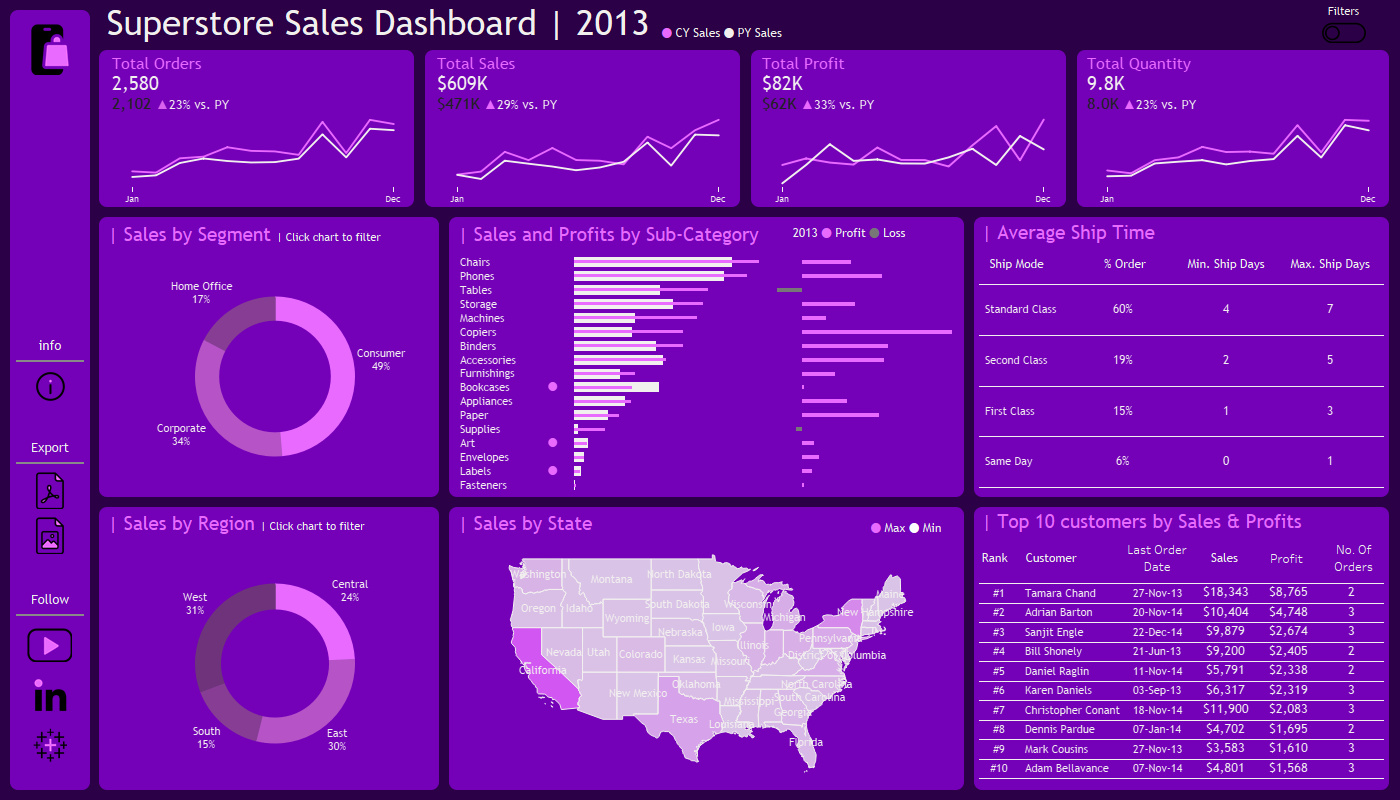

The dashboard page shown, as its layout file describes it:
{"tool":"tableau","page":{"name":"Sales Dashboard","canvas":[1400,800],"ordinal":0},"visuals":[{"type":"image","param":"D:/SHIVAM/Learn With Shivam/Tableau Dashboard Tutorial- Beginner to Intermediate","box":[0,0,1400,800]},{"type":"blank","box":[90,0,1310,267]},{"type":"text","box":[100,0,1300,46]},{"type":"text","box":[1316,1,55,21]},{"type":"filter","title":"Total Orders KPI","param":"[federated.1rs4rue05h7jap19rui71063v4hk].[none:category:nk]","box":[917,4,100,45]},{"type":"filter","title":"Total Orders KPI","param":"[federated.1rs4rue05h7jap19rui71063v4hk].[none:sub_category:nk]","box":[1017,4,100,45]},{"type":"filter","title":"Total Orders KPI","param":"[federated.1rs4rue05h7jap19rui71063v4hk].[none:state:nk]","box":[1117,4,99,45]},{"type":"parameter","param":"[Parameters].[Parameter 1]","box":[1216,4,99,45]},{"type":"blank","box":[10,10,80,10]},{"type":"image","param":"D:/SHIVAM/Learn With Shivam/Tableau Dashboard Tutorial- Beginner to Intermediate","box":[10,20,80,59]},{"type":"dashboard-object","box":[1321,21,45,23]},{"type":"text","box":[659,22,126,24]},{"type":"worksheet","title":"Total Orders KPI","mark":"Automatic","box":[108,54,309,61]},{"type":"worksheet","title":"Total Sales KPI","mark":"Automatic","box":[433,54,309,61]},{"type":"worksheet","title":"Total Profit KPI","mark":"Automatic","box":[758,54,309,61]},{"type":"worksheet","title":"Total Quantity KPI","mark":"Automatic","box":[1083,54,309,61]},{"type":"blank","box":[10,79,80,257]},{"type":"worksheet","title":"MOM Orders","mark":"Line","rows":["Calculation_852869205284057090","CY Orders (copy)_852869205284253699"],"cols":["order_date"],"box":[108,115,309,90]},{"type":"worksheet","title":"MOM Sales","mark":"Line","rows":["Calculation_852869205287362570","CY Sales (copy)_852869205287477259"],"cols":["order_date"],"box":[433,115,309,90]},{"type":"worksheet","title":"MOM Profit","mark":"Line","rows":["Calculation_852869205286715398","CY Profit (copy)_852869205286846471"],"cols":["order_date"],"box":[758,115,309,90]},{"type":"worksheet","title":"MOM Quantity","mark":"Line","rows":["Calculation_852869205292703760","CY Quantity (copy)_852869205292847121"],"cols":["order_date"],"box":[1083,115,309,90]},{"type":"worksheet","title":"Sales/Profits by Segment","mark":"Pie","rows":["Calculation_852869205306703895","Calculation_852869205306728473"],"box":[100,213,350,289]},{"type":"worksheet","title":"Sales/Profits by Sub-Category","mark":"Bar","rows":["sub_category","Calculation_852869205319745563"],"cols":["CY Sales (copy)_852869205287477259","Calculation_852869205287362570","Calculation_852869205286715398"],"box":[450,213,515,289]},{"type":"text","box":[975,217,413,31]},{"type":"text","box":[790,223,122,22]},{"type":"text","box":[979,248,90,32]},{"type":"text","box":[1069,248,112,32]},{"type":"text","box":[1181,248,103.5,32]},{"type":"text","box":[1284.5,248,103.5,32]},{"type":"text","box":[90,267,1310,267]},{"type":"worksheet","title":"Avg Ship Time","mark":"Automatic","rows":["ship_mode"],"box":[975,280,413,218]},{"type":"text","box":[10,336,80,20]},{"type":"blank","box":[10,356,80,10]},{"type":"dashboard-object","box":[10,366,80,40]},{"type":"blank","box":[10,406,80,32]},{"type":"text","box":[10,438,80,20]},{"type":"blank","box":[10,458,80,10]},{"type":"dashboard-object","box":[10,468,80,45]},{"type":"worksheet","title":"Sales/Profits by Region","mark":"Pie","rows":["Calculation_852869205306703895","Calculation_852869205306728473"],"box":[100,502,350,285]},{"type":"worksheet","title":"Sales/Profits by State","mark":"Multipolygon","box":[450,502,515,285]},{"type":"text","box":[975,506,413,31]},{"type":"dashboard-object","box":[10,513,80,45]},{"type":"text","box":[868,518,77,22]},{"type":"blank","box":[90,534,1310,266]},{"type":"text","box":[975,537,44,42]},{"type":"text","box":[1019,537,100,42]},{"type":"text","box":[1119,537,76,42]},{"type":"text","box":[1195,537,59,42]},{"type":"text","box":[1254,537,65,42]},{"type":"text","box":[1318.9,537,69,42]},{"type":"blank","box":[10,558,80,32]},{"type":"worksheet","title":"Top 10 Customers","mark":"Automatic","rows":["Calculation_378302394701783041","customer_name","order_date"],"box":[975,579,413,204]},{"type":"text","box":[10,590,80,20]},{"type":"blank","box":[10,610,80,10]},{"type":"image","param":"D:/SHIVAM/Learn With Shivam/Tableau Dashboard Tutorial- Beginner to Intermediate","box":[10,620,80,50]},{"type":"image","param":"D:/SHIVAM/Learn With Shivam/Tableau Dashboard Tutorial- Beginner to Intermediate","box":[10,670,80,50]},{"type":"image","param":"D:/SHIVAM/Learn With Shivam/Tableau Dashboard Tutorial- Beginner to Intermediate","box":[10,720,80,50]},{"type":"blank","box":[10,770,80,20]}]}

Visuals, with their boxes in screenshot pixels (x1, y1, x2, y2), scaled from the page's 1400x800 canvas onto the 1400x800 screenshot:
image: (0,0,1399,799)
blank: (90,0,1399,267)
text: (100,0,1399,46)
text: (1316,1,1371,22)
"Total Orders KPI" filter: (917,4,1017,49)
"Total Orders KPI" filter: (1017,4,1117,49)
"Total Orders KPI" filter: (1117,4,1216,49)
parameter: (1216,4,1315,49)
blank: (10,10,90,20)
image: (10,20,90,79)
dashboard-object: (1321,21,1366,44)
text: (659,22,785,46)
"Total Orders KPI" worksheet: (108,54,417,115)
"Total Sales KPI" worksheet: (433,54,742,115)
"Total Profit KPI" worksheet: (758,54,1067,115)
"Total Quantity KPI" worksheet: (1083,54,1392,115)
blank: (10,79,90,336)
"MOM Orders" worksheet (Line marks): (108,115,417,205)
"MOM Sales" worksheet (Line marks): (433,115,742,205)
"MOM Profit" worksheet (Line marks): (758,115,1067,205)
"MOM Quantity" worksheet (Line marks): (1083,115,1392,205)
"Sales/Profits by Segment" worksheet (Pie marks): (100,213,450,502)
"Sales/Profits by Sub-Category" worksheet (Bar marks): (450,213,965,502)
text: (975,217,1388,248)
text: (790,223,912,245)
text: (979,248,1069,280)
text: (1069,248,1181,280)
text: (1181,248,1284,280)
text: (1284,248,1388,280)
text: (90,267,1399,534)
"Avg Ship Time" worksheet: (975,280,1388,498)
text: (10,336,90,356)
blank: (10,356,90,366)
dashboard-object: (10,366,90,406)
blank: (10,406,90,438)
text: (10,438,90,458)
blank: (10,458,90,468)
dashboard-object: (10,468,90,513)
"Sales/Profits by Region" worksheet (Pie marks): (100,502,450,787)
"Sales/Profits by State" worksheet (Multipolygon marks): (450,502,965,787)
text: (975,506,1388,537)
dashboard-object: (10,513,90,558)
text: (868,518,945,540)
blank: (90,534,1399,799)
text: (975,537,1019,579)
text: (1019,537,1119,579)
text: (1119,537,1195,579)
text: (1195,537,1254,579)
text: (1254,537,1319,579)
text: (1319,537,1388,579)
blank: (10,558,90,590)
"Top 10 Customers" worksheet: (975,579,1388,783)
text: (10,590,90,610)
blank: (10,610,90,620)
image: (10,620,90,670)
image: (10,670,90,720)
image: (10,720,90,770)
blank: (10,770,90,790)
